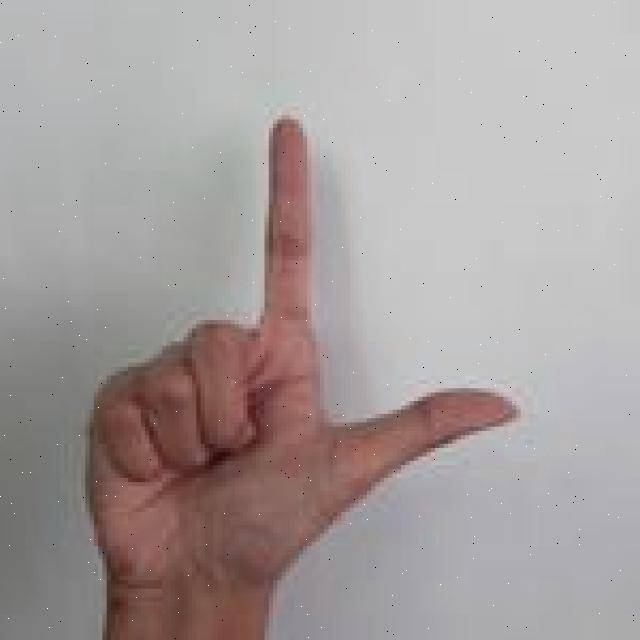L: (78, 108, 527, 640)
